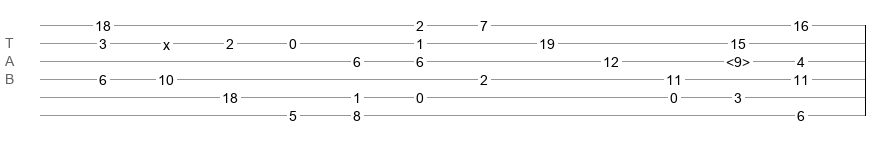0: (289, 36, 297, 46), (416, 90, 424, 100), (670, 90, 678, 100)
1: (353, 90, 361, 100), (416, 36, 424, 46)
10: (158, 72, 174, 82)
11: (666, 72, 682, 82), (793, 72, 809, 82)
12: (603, 54, 619, 64)
15: (730, 36, 746, 46)
16: (793, 18, 809, 28)
18: (95, 18, 111, 28), (222, 90, 238, 100)
19: (539, 36, 555, 46)
2: (226, 36, 234, 46), (416, 18, 424, 28), (480, 72, 488, 82)
3: (99, 36, 107, 46), (734, 90, 742, 100)
4: (797, 54, 805, 64)
5: (289, 108, 297, 118)
6: (99, 72, 107, 82), (353, 54, 361, 64), (416, 54, 424, 64), (797, 108, 805, 118)
7: (480, 18, 488, 28)
8: (353, 108, 361, 118)
harmonic: (726, 54, 750, 64)
x: (163, 37, 170, 45)
